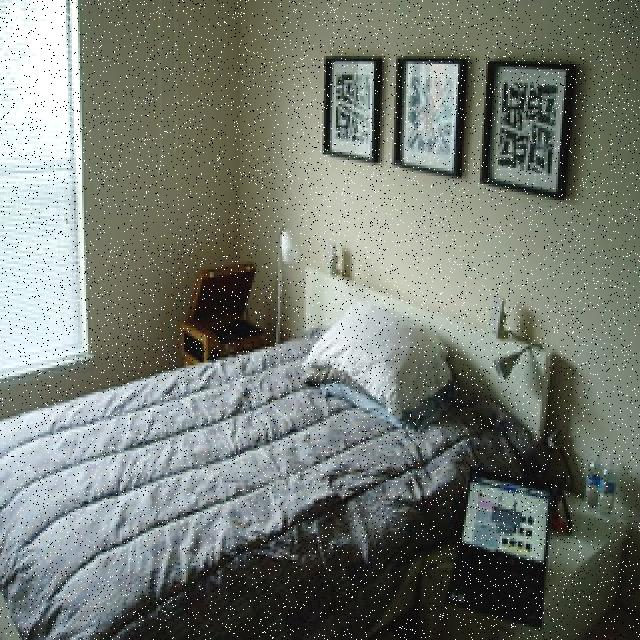bed: (0, 269, 586, 568)
